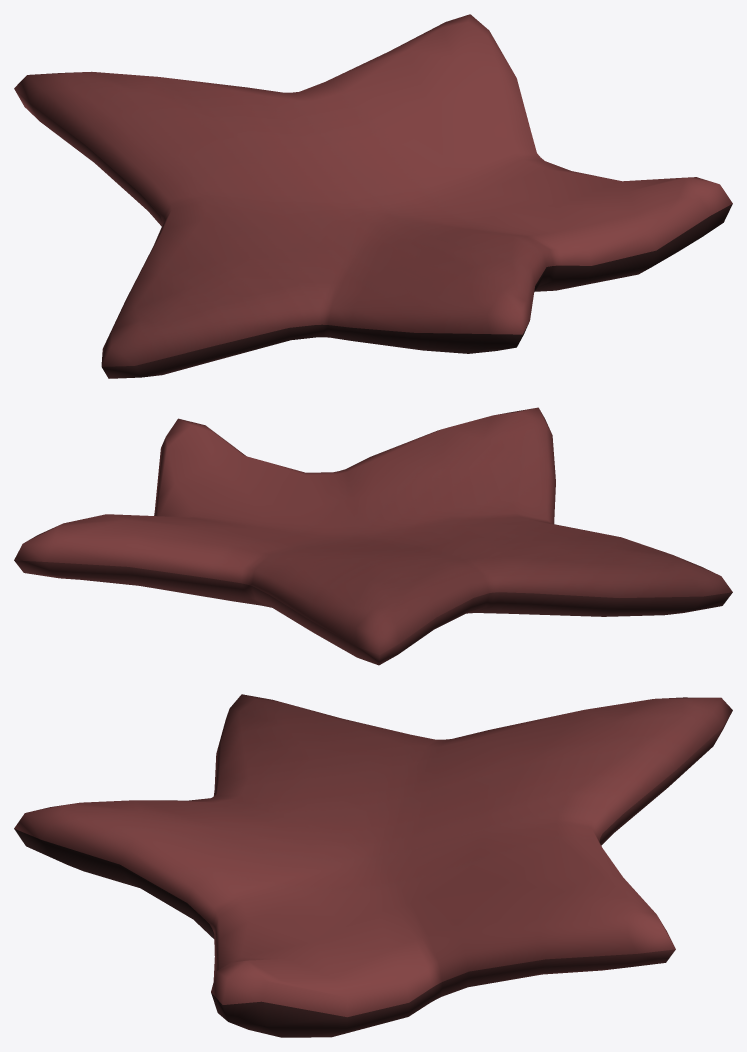
The model's file is star.glb.
The picture shows the model from 3 angles, top to bottom: view 1: azimuth 30°, elevation 25°; view 2: azimuth 150°, elevation 25°; view 3: azimuth 270°, elevation 25°; orthographic projection. The views are drawn at different scales.
Parts seen in each view (by area): view 1: cc_star4; view 2: cc_star4; view 3: cc_star4.
Boxes of the visible parts, x1=… form: cc_star4: x1=14, y1=14, x2=732, y2=378; cc_star4: x1=14, y1=407, x2=732, y2=665; cc_star4: x1=14, y1=694, x2=732, y2=1037.
Size of the model in its own units: 0.1417 by 0.0311 by 0.1358.
1 material, 1 textured.
